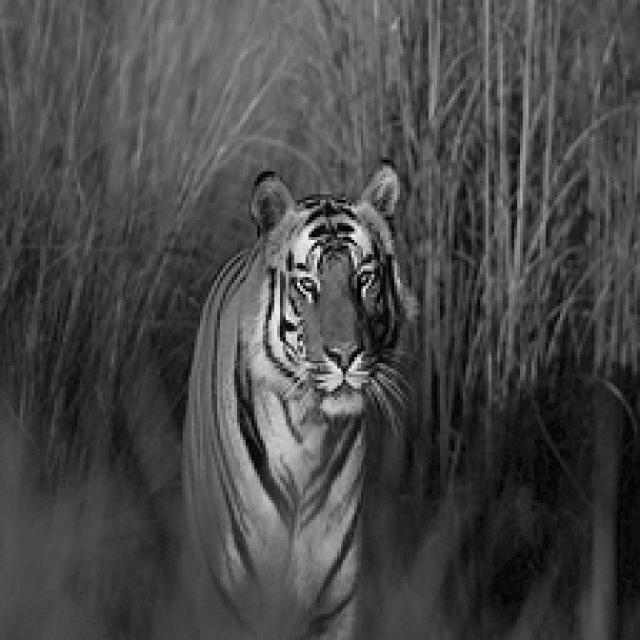tiger: (194, 170, 427, 640)
